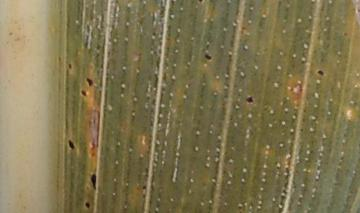tarspot: (89, 173, 97, 189), (67, 138, 76, 150), (84, 77, 94, 87), (204, 51, 213, 61), (246, 95, 255, 104), (80, 88, 88, 97), (83, 200, 91, 209), (316, 68, 324, 77), (67, 63, 73, 69), (142, 185, 148, 190), (197, 1, 204, 4)
